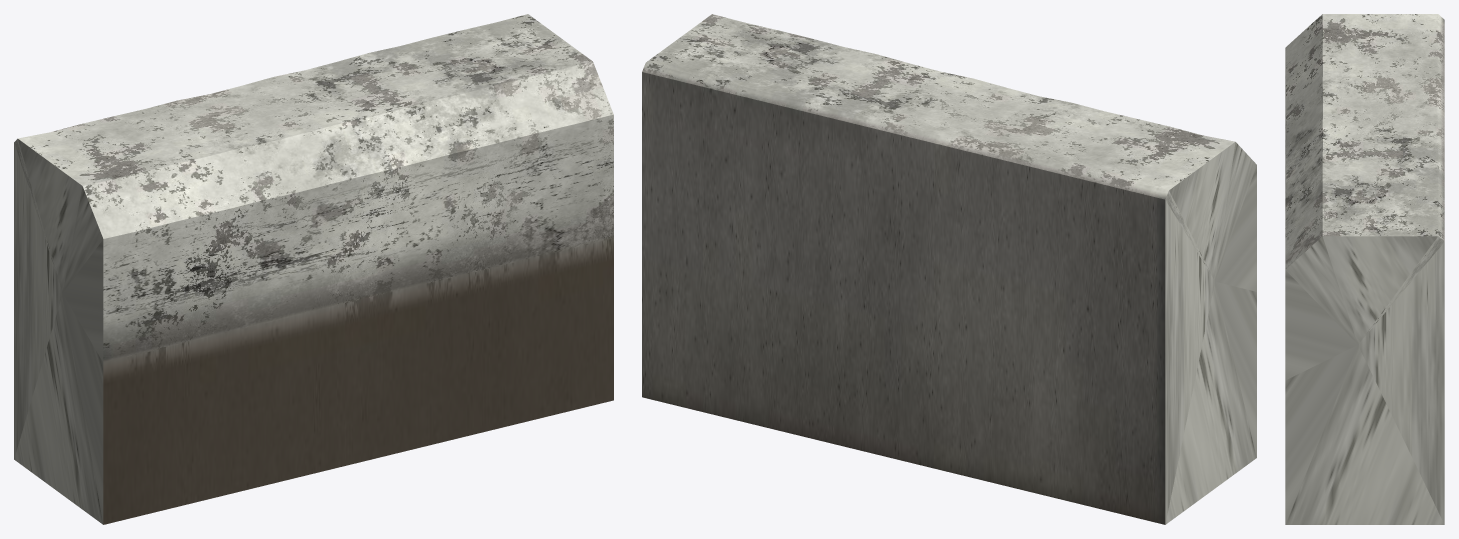
Rendered from curb_half_white_web.glb.
The picture shows the model from 3 angles, left to right: view 1: azimuth 30°, elevation 25°; view 2: azimuth 150°, elevation 25°; view 3: azimuth 270°, elevation 25°; orthographic projection. The views are drawn at different scales.
Parts seen in each view (by area): view 1: curb_half_white_Mesh; view 2: curb_half_white_Mesh; view 3: curb_half_white_Mesh.
Part boxes in pixels (left/top/right/bottom): curb_half_white_Mesh: left=14, top=14, right=613, bottom=524; curb_half_white_Mesh: left=642, top=14, right=1256, bottom=524; curb_half_white_Mesh: left=1285, top=14, right=1444, bottom=524.
Size of the model in its own units: 0.495 by 0.3 by 0.15.
Materials: 1 (1 with a texture image).
